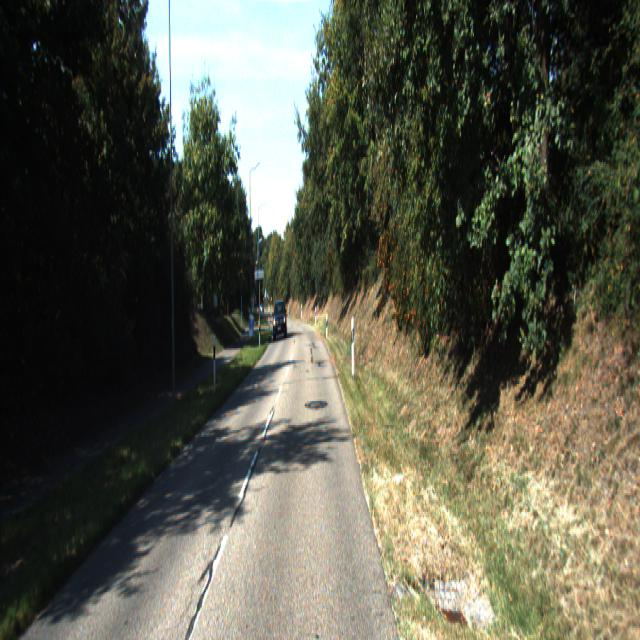Car: (272, 300, 288, 348)
